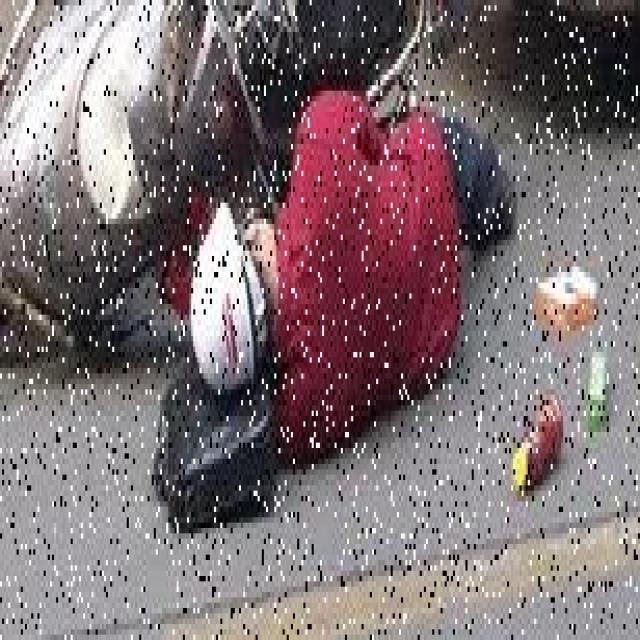fall: (183, 90, 509, 442)
